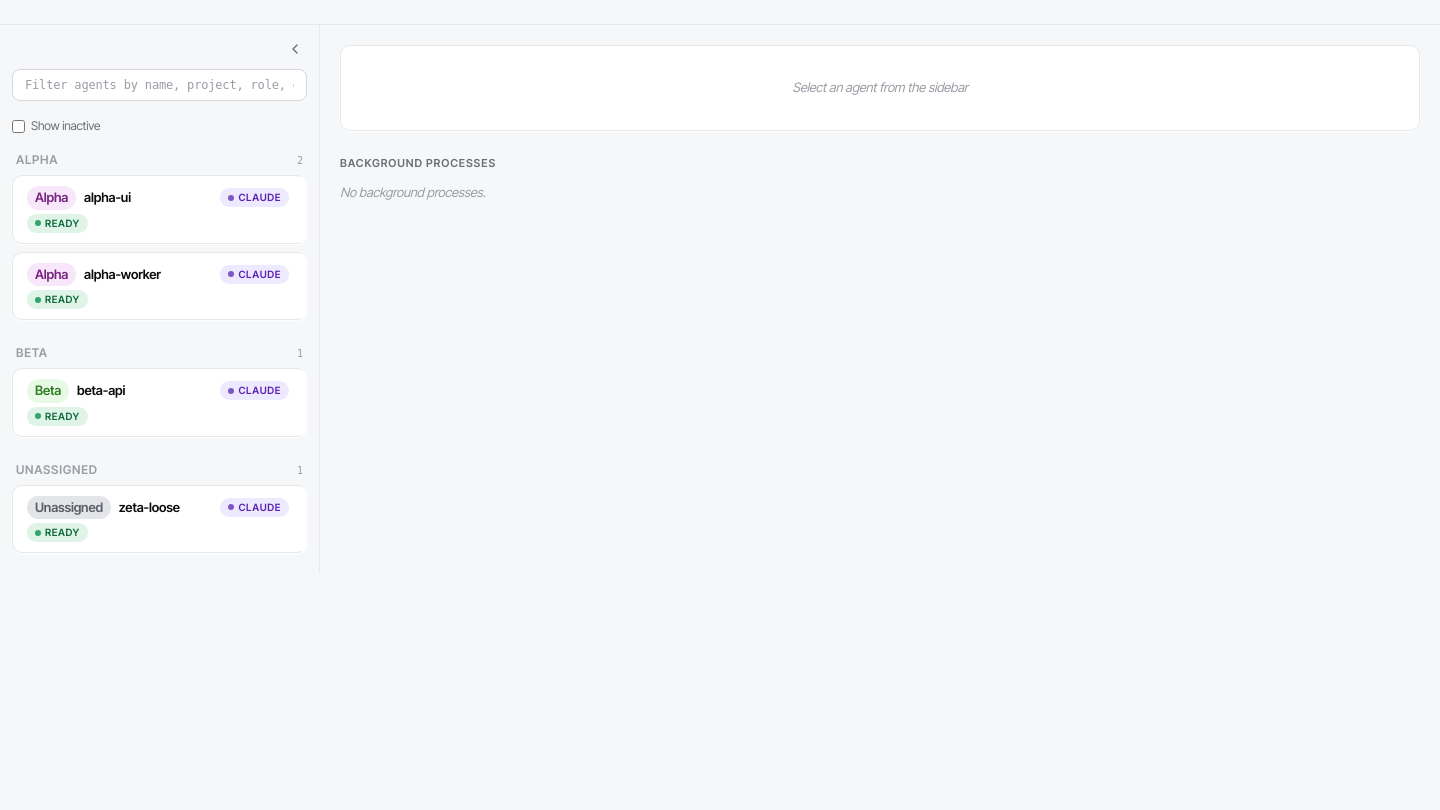
Scenario: AgentList sidebar (project grouping, TASK-0170) › the view's close button deselects the agent and returns the pane to the empty state (TASK-0173)
This screenshot has width=1440, height=810.
Click the text "beta-api" at (101, 390), box [77,382,125,398]
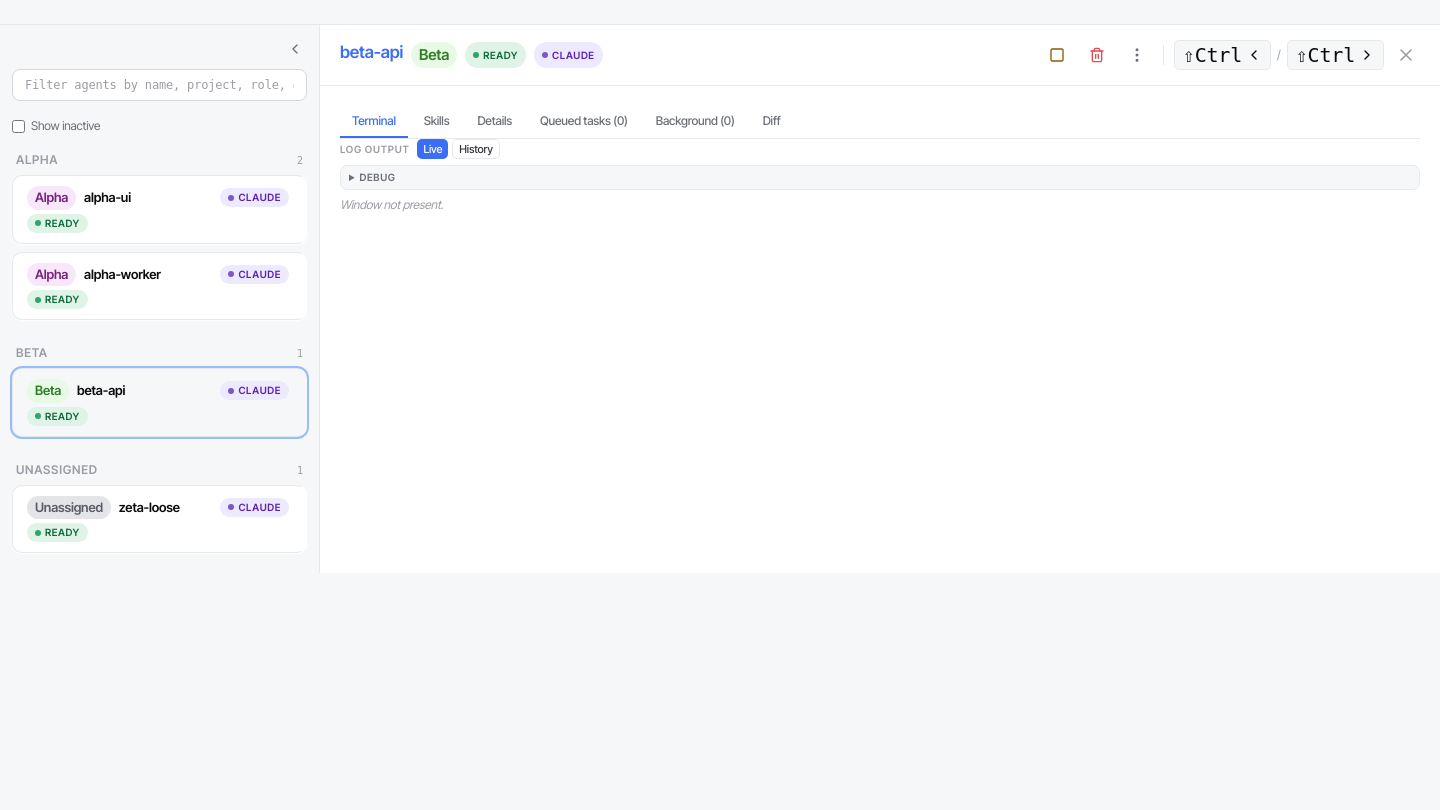
Click the button named "Close" at (1406, 55), box [1392,41,1420,69]
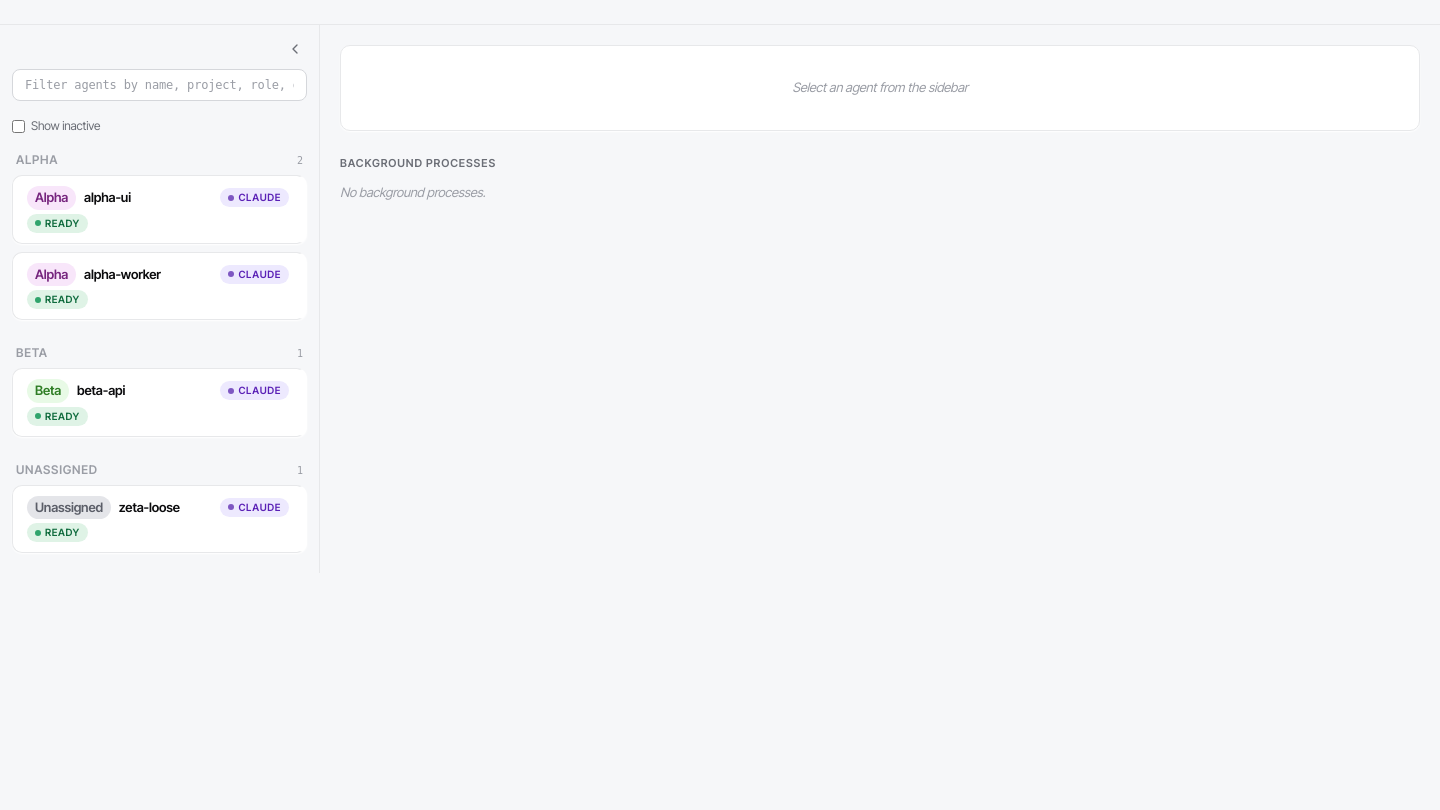
Result: the text "Select an agent from the sidebar" is shown at [792,79,968,95]
Result: the heading "Background processes" is shown at [340,156,496,170]
